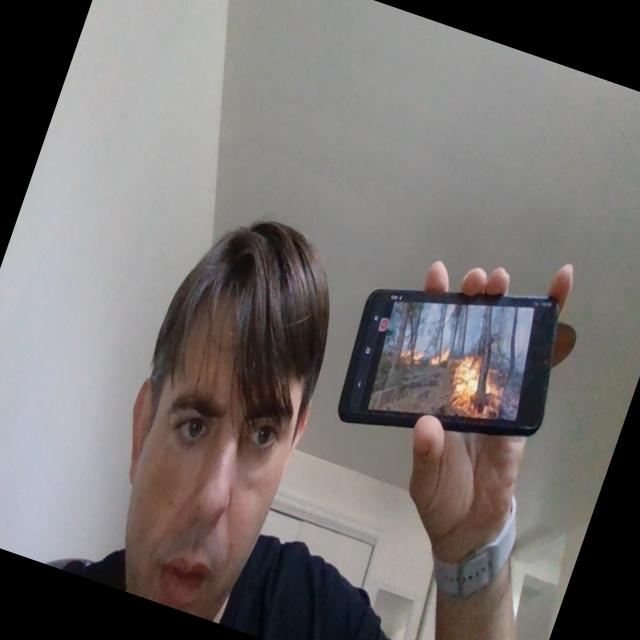Fire: (440, 344, 519, 426), (386, 330, 456, 377)
